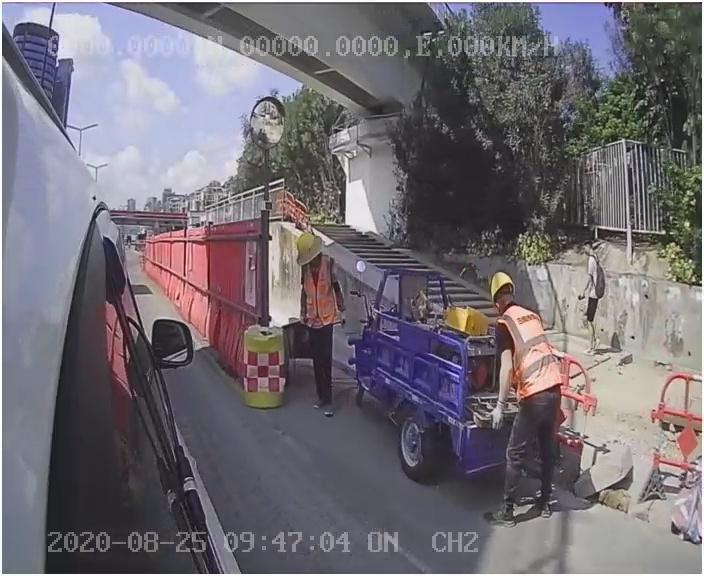person: (281, 231, 357, 427)
